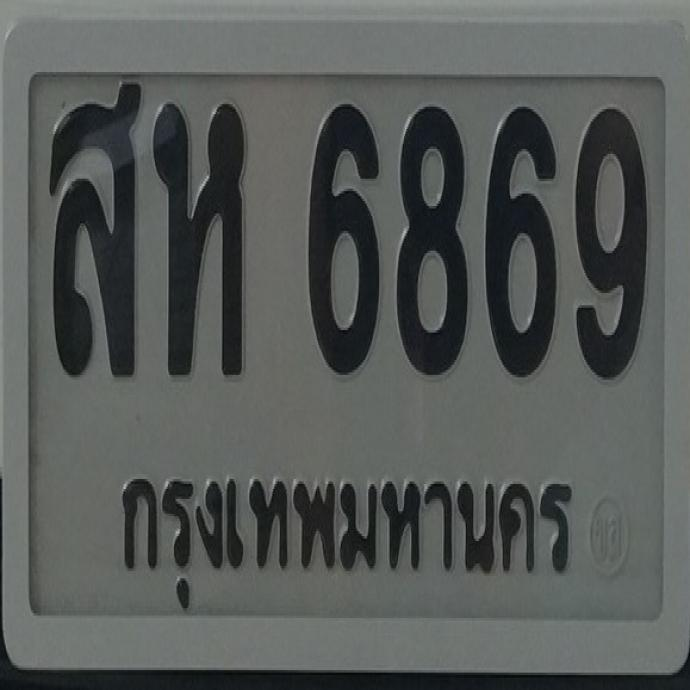6: (307, 100, 380, 375), (484, 103, 556, 377)
8: (395, 101, 466, 376)
9: (574, 104, 646, 380)
A40: (48, 70, 141, 380)
A41: (153, 97, 247, 379)
BKK: (107, 444, 587, 616)
